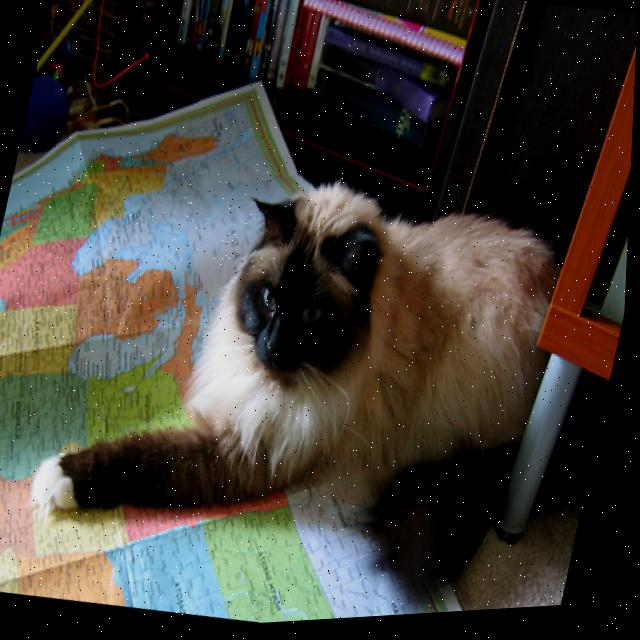Birman: (22, 131, 592, 626)
